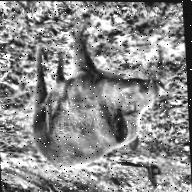boar: (12, 25, 182, 190)
